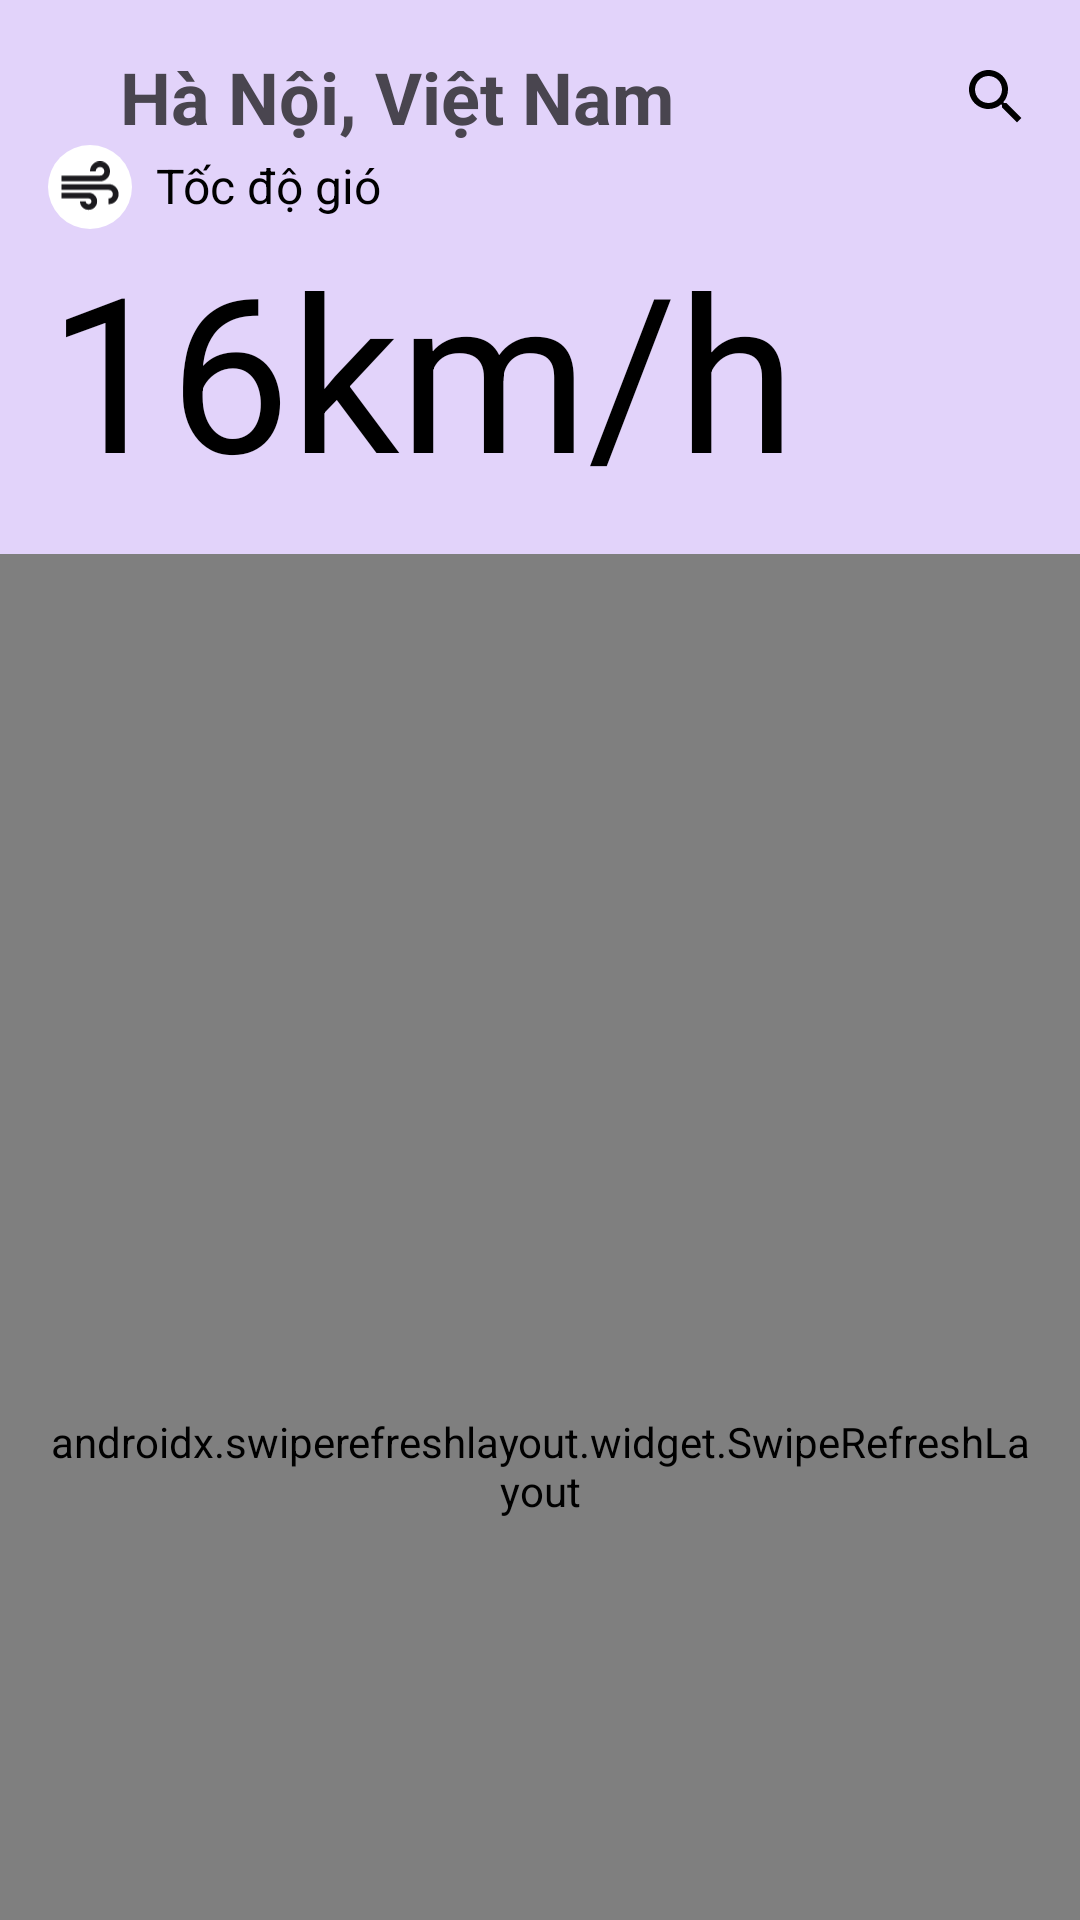

Screen size 1080 × 1920. Icon name, then its center in pixels as point (x, y):
search: point (995, 96)
